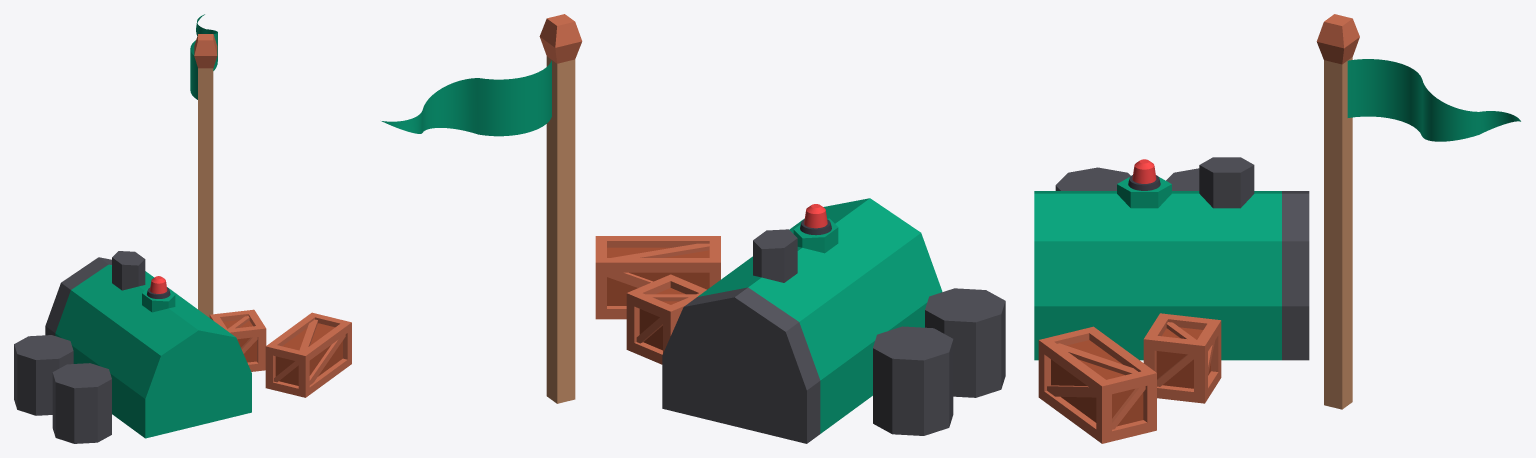
The model's file is gas_station.glb.
The picture shows the model from 3 angles, left to right: view 1: azimuth 30°, elevation 25°; view 2: azimuth 150°, elevation 25°; view 3: azimuth 270°, elevation 25°; orthographic projection. The views are drawn at different scales.
Parts seen in each view (by area): view 1: mergedBlocks(Clone); view 2: mergedBlocks(Clone); view 3: mergedBlocks(Clone).
Boxes of the visible parts, <box> form: mergedBlocks(Clone): <box>14,14,351,443</box>; mergedBlocks(Clone): <box>381,14,1005,443</box>; mergedBlocks(Clone): <box>1034,14,1520,443</box>.
Bounding box in the file's own units: 6.85 × 6 × 6.91.
Materials: 1 (1 with a texture image).
